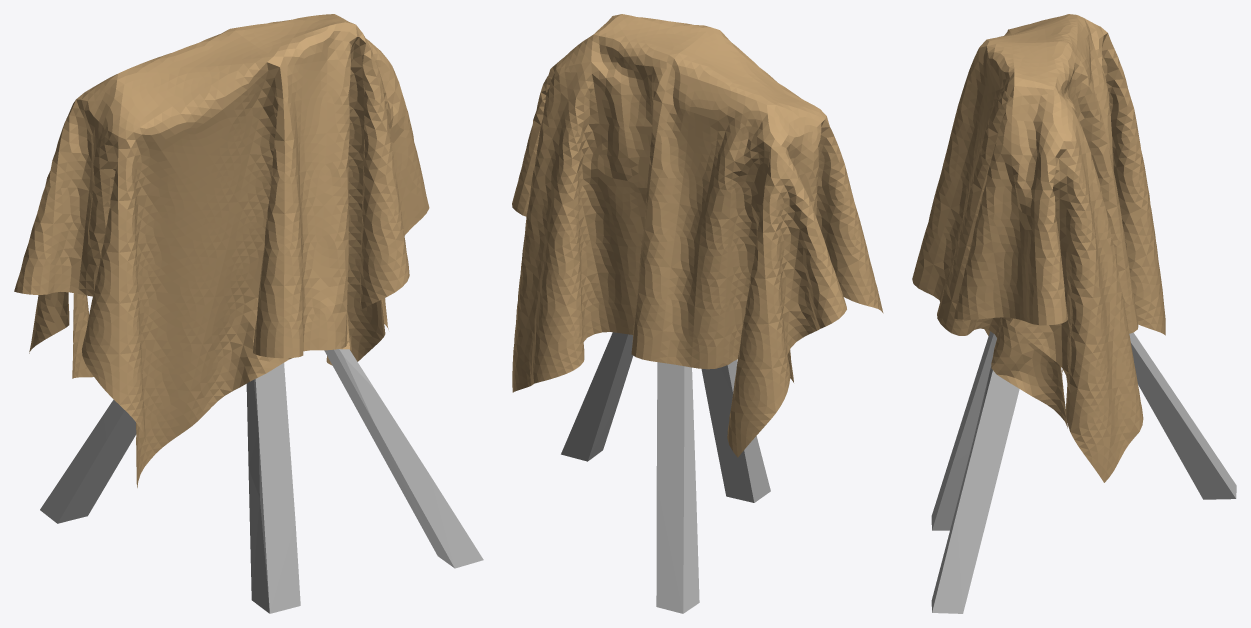
File: level_2.glb
The picture shows the model from 3 angles, left to right: view 1: azimuth 30°, elevation 25°; view 2: azimuth 150°, elevation 25°; view 3: azimuth 270°, elevation 25°; orthographic projection. The views are drawn at different scales.
Parts seen in each view (by area): view 1: world, object.obj; view 2: world, object.obj; view 3: world, object.obj.
Boxes of the visible parts, x1,y1,x2,y2 form: world: [14, 14, 429, 487]; object.obj: [40, 349, 483, 613]; world: [512, 14, 883, 457]; object.obj: [561, 332, 770, 613]; world: [912, 14, 1165, 482]; object.obj: [931, 331, 1236, 613].
Bounding box in the file's own units: 0.3106 × 0.4073 × 0.2418.
